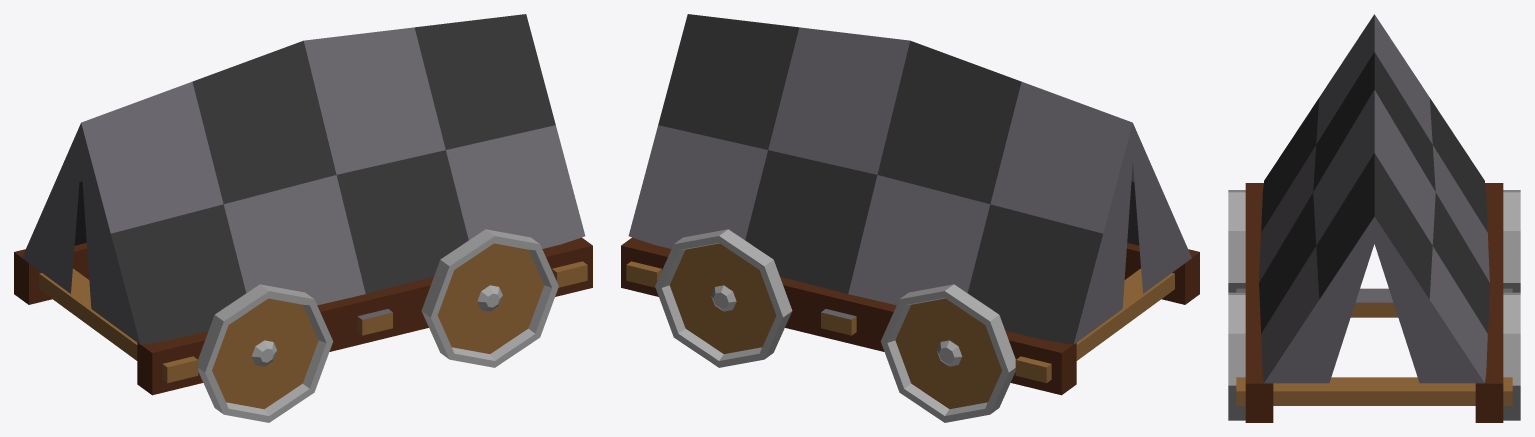
File: Ariete.fbx
3 views of the same model, side by side, from view 1: azimuth 30°, elevation 25°; view 2: azimuth 150°, elevation 25°; view 3: azimuth 270°, elevation 25° (orthographic). The views are drawn at different scales.
Parts seen in each view (by area): view 1: Ariete; view 2: Ariete; view 3: Ariete.
Boxes of the visible parts, x1,y1,x2,y2 form: Ariete: (14, 14, 592, 422); Ariete: (621, 14, 1199, 422); Ariete: (1228, 14, 1520, 422).
Bounding box in the file's own units: 325 × 208 × 198.
